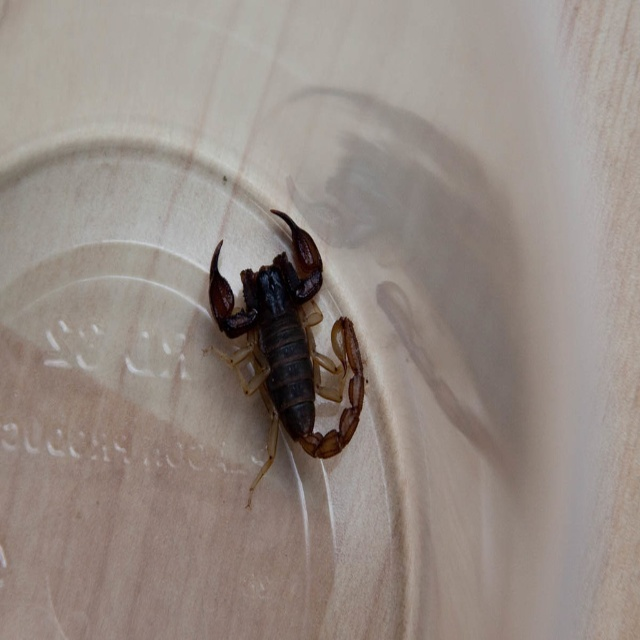Scorpion: (202, 206, 372, 507)
